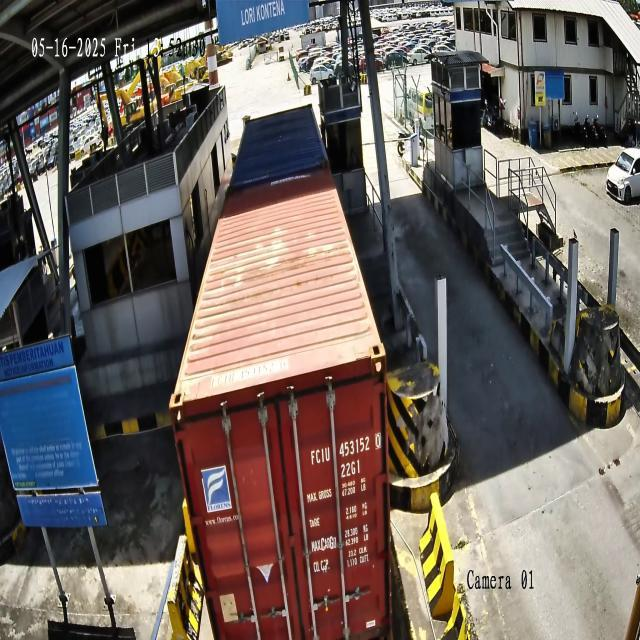ISO: (342, 458, 361, 478)
container_number: (310, 424, 383, 468)
